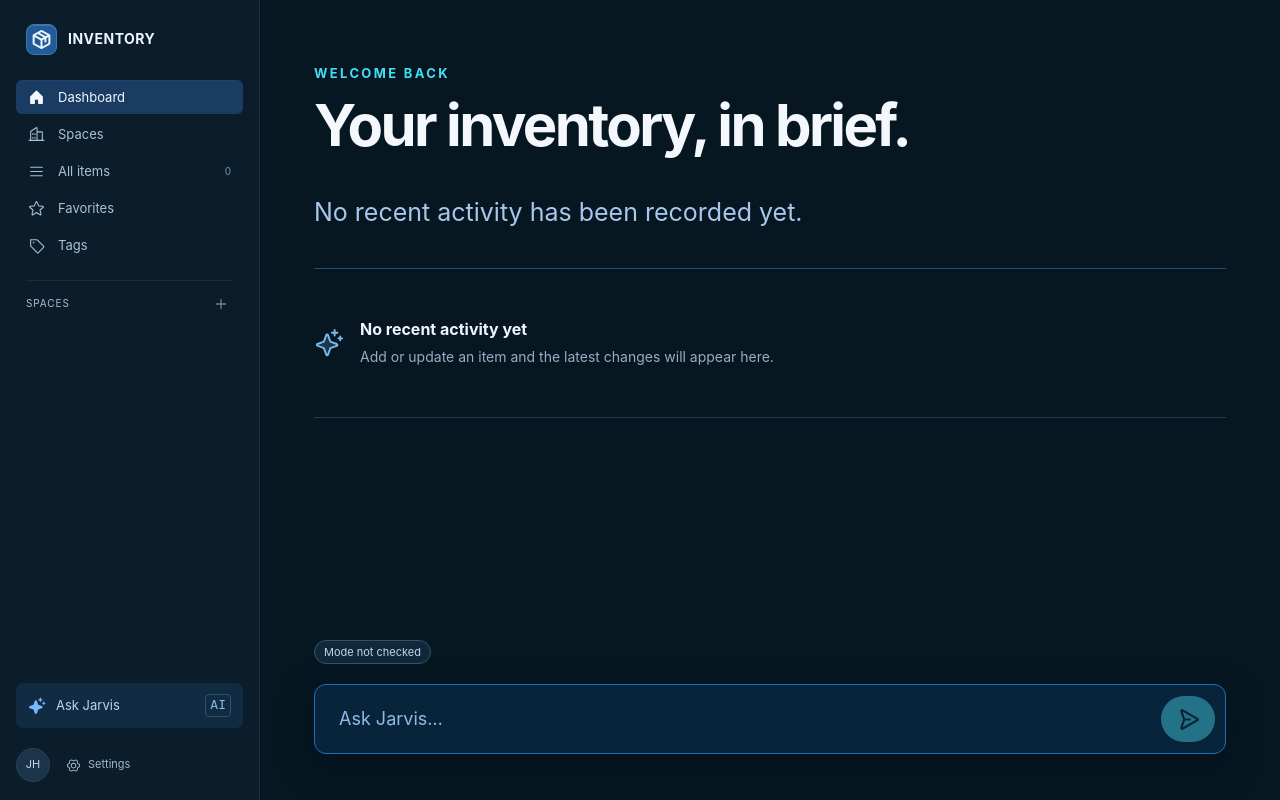
Test case: offers the space prerequisite instead of creating an unplaced root container when no saved spaces exist
Click the button "All items 0" at (130, 171), box [16,154,243,188]
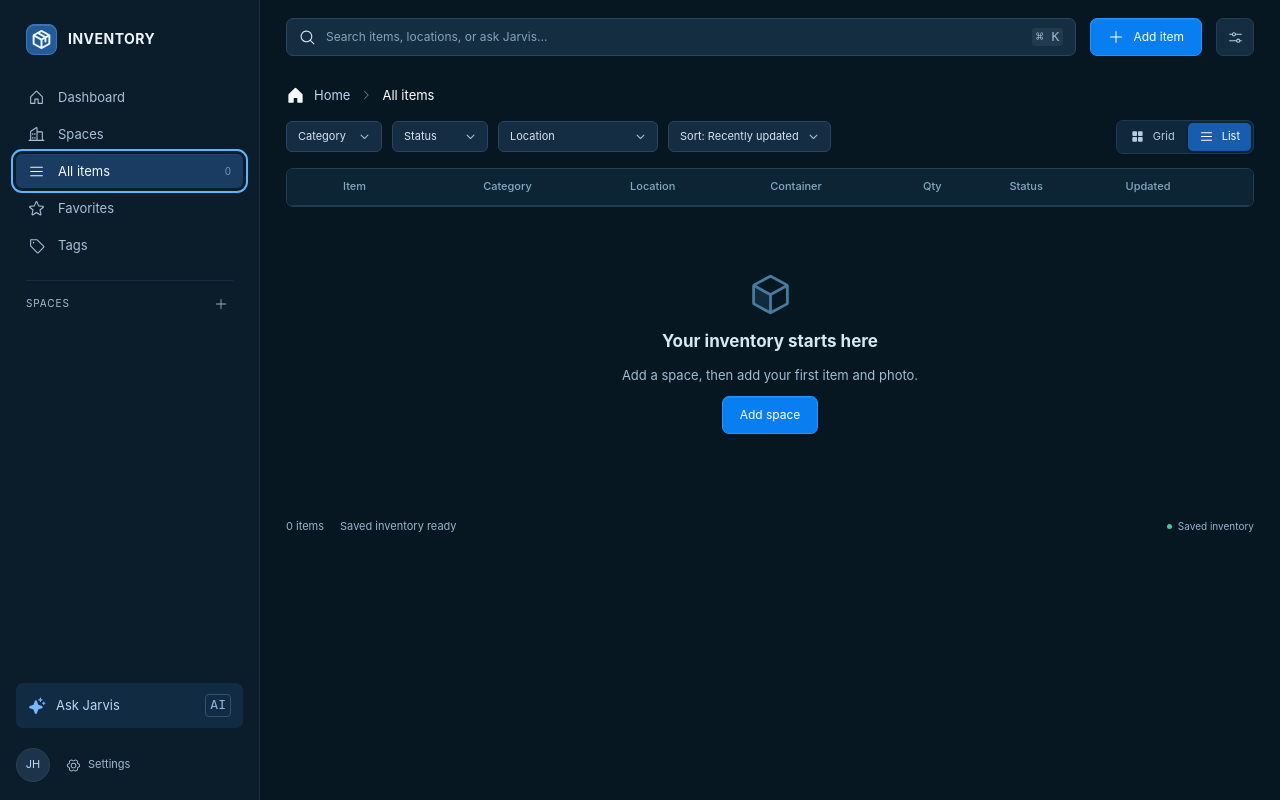
Click the button "Spaces" at (130, 134), box [16,117,243,151]
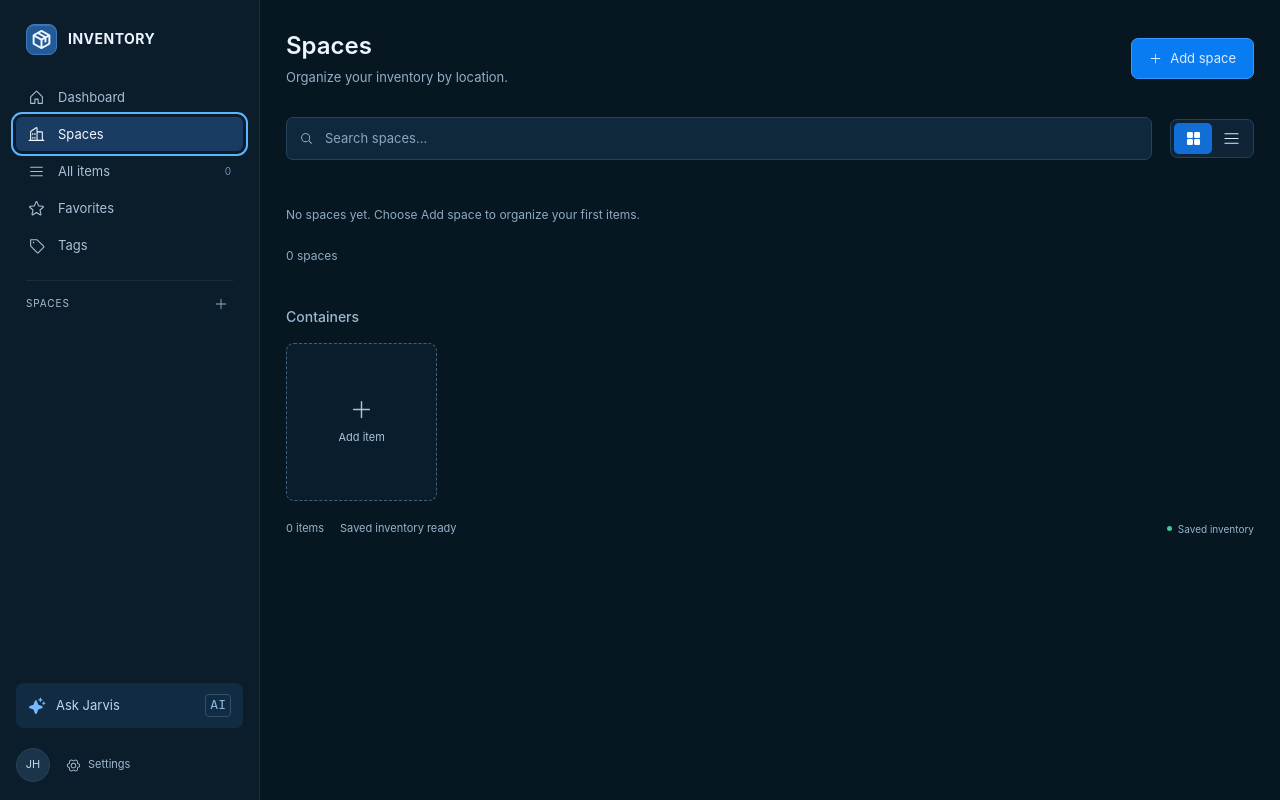
Check: the button named "Add space" is shown, box [208,291,233,316]
Check: the button "Add space" is shown, box [1131,38,1254,79]
